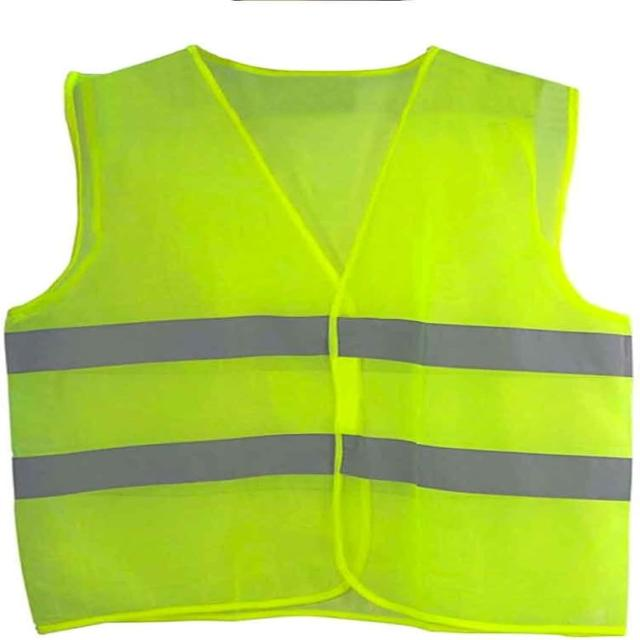safety_helmet: (35, 47, 620, 630)
